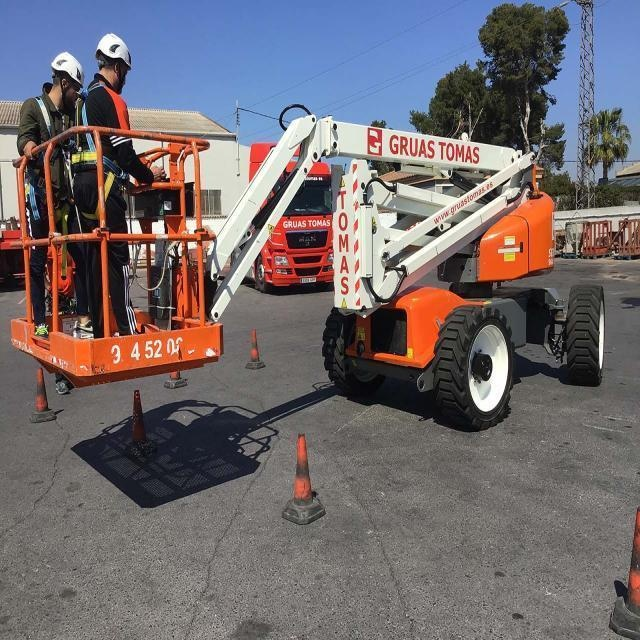Arnes_seguridad: (67, 82, 123, 219), (25, 94, 72, 229)
